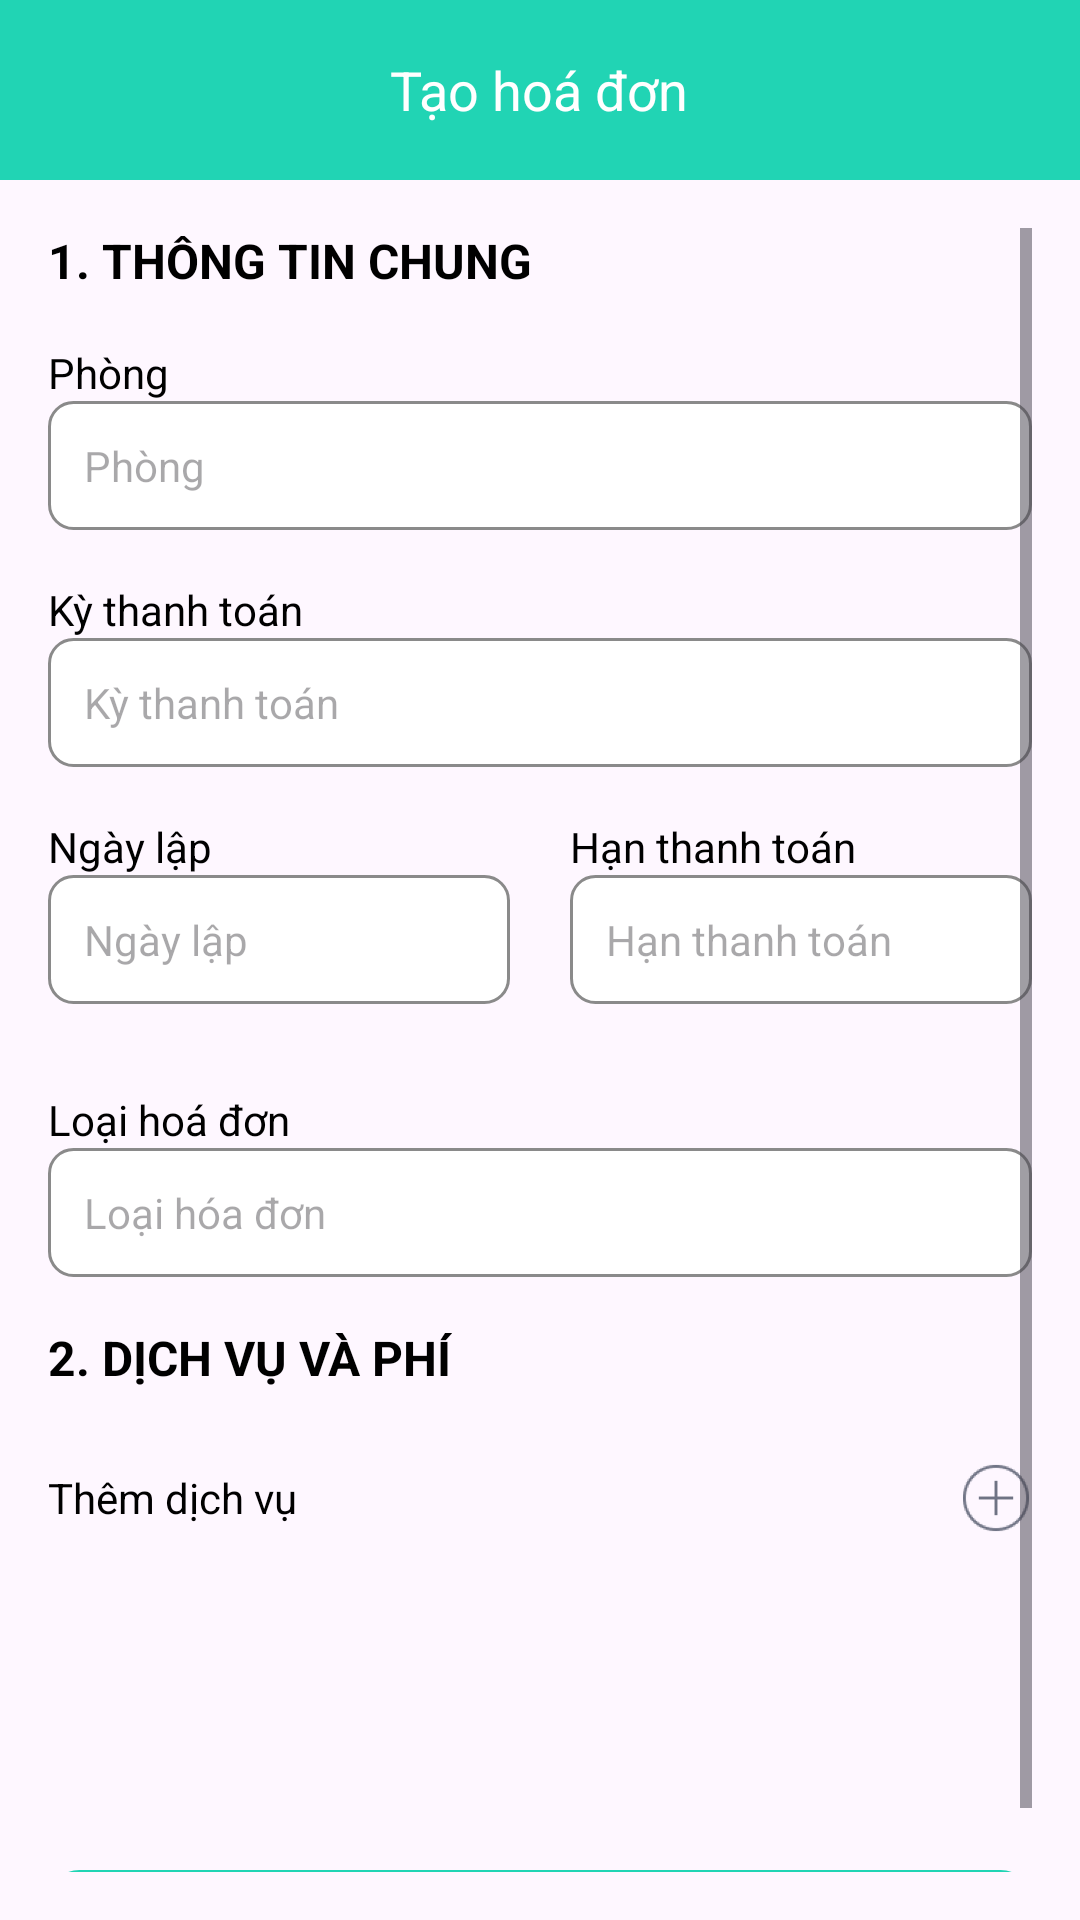

Icons on this 1080×1920 Android screen, each with its box as (x1, y1, x2, y2):
addd: (963, 1462, 1032, 1534)
